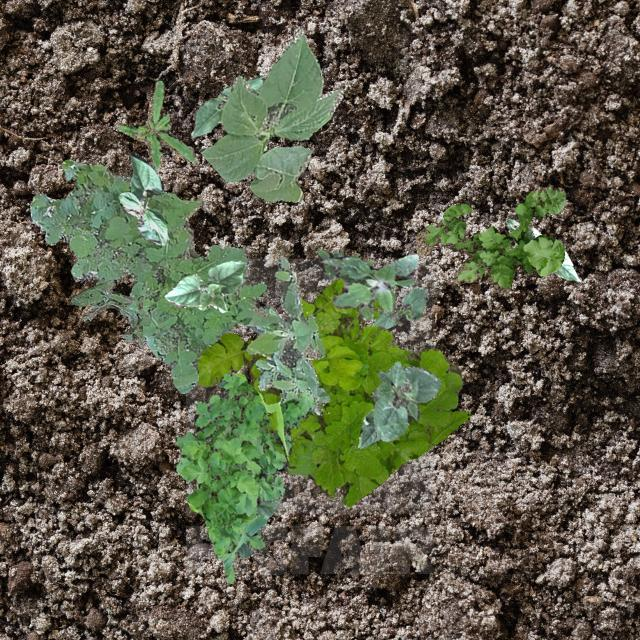crop: (198, 25, 342, 202), (370, 360, 440, 440), (118, 150, 170, 244), (504, 218, 580, 282), (190, 74, 264, 138), (164, 260, 245, 312), (236, 494, 280, 556), (368, 286, 428, 328), (356, 408, 379, 448)
weed: (196, 276, 470, 506), (28, 158, 290, 392), (173, 372, 314, 582), (414, 185, 564, 292), (245, 256, 328, 414), (316, 248, 418, 320), (115, 80, 193, 168), (69, 278, 141, 348)
